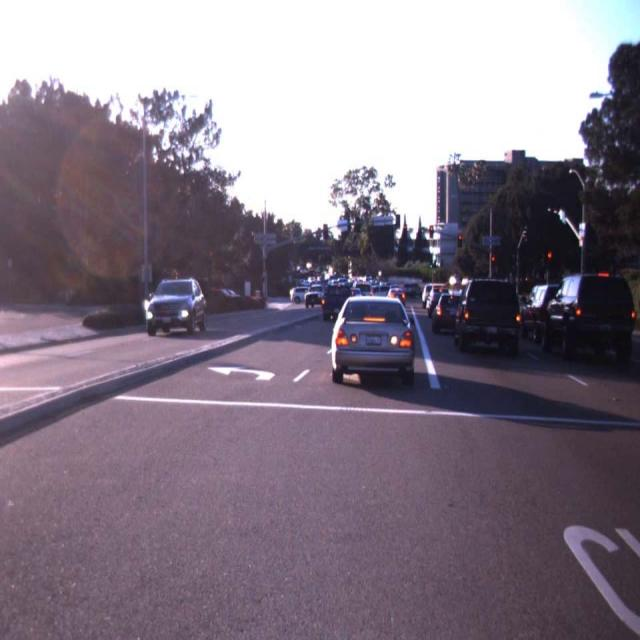kirmizi: (429, 225, 434, 238), (458, 236, 462, 247), (404, 225, 407, 237)
